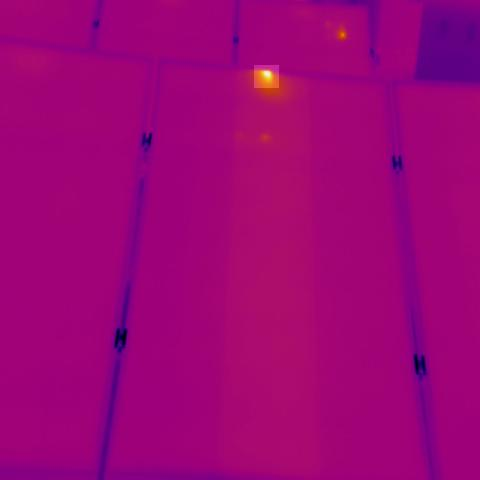fault: (254, 65, 279, 88)
